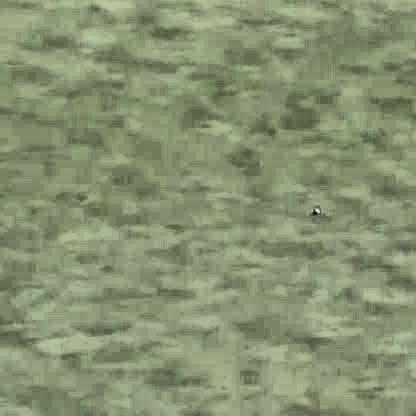golfball: (311, 202, 316, 212)
